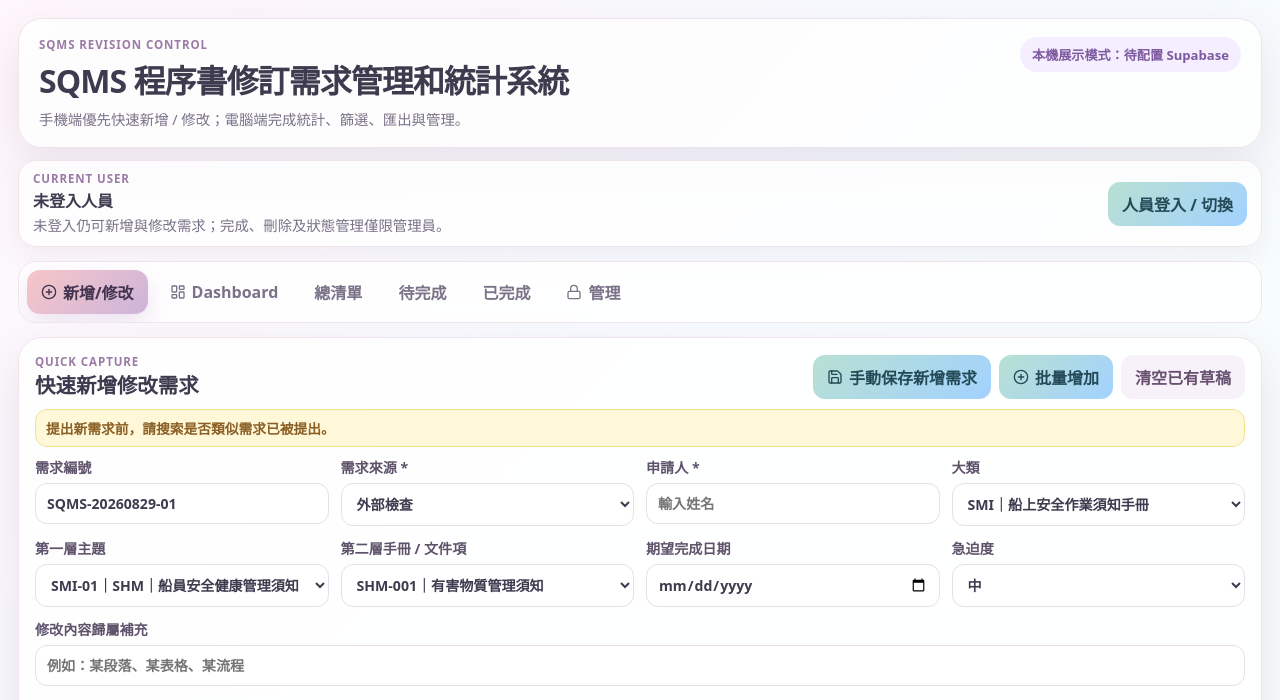
request manual save flow › uses the signed-in person as an editable applicant default
expect the field labelled "申請人 *" is empty: met, box [646,483,940,524]
Click the button "人員登入 / 切換": (1178, 204) [1108,182,1247,226]
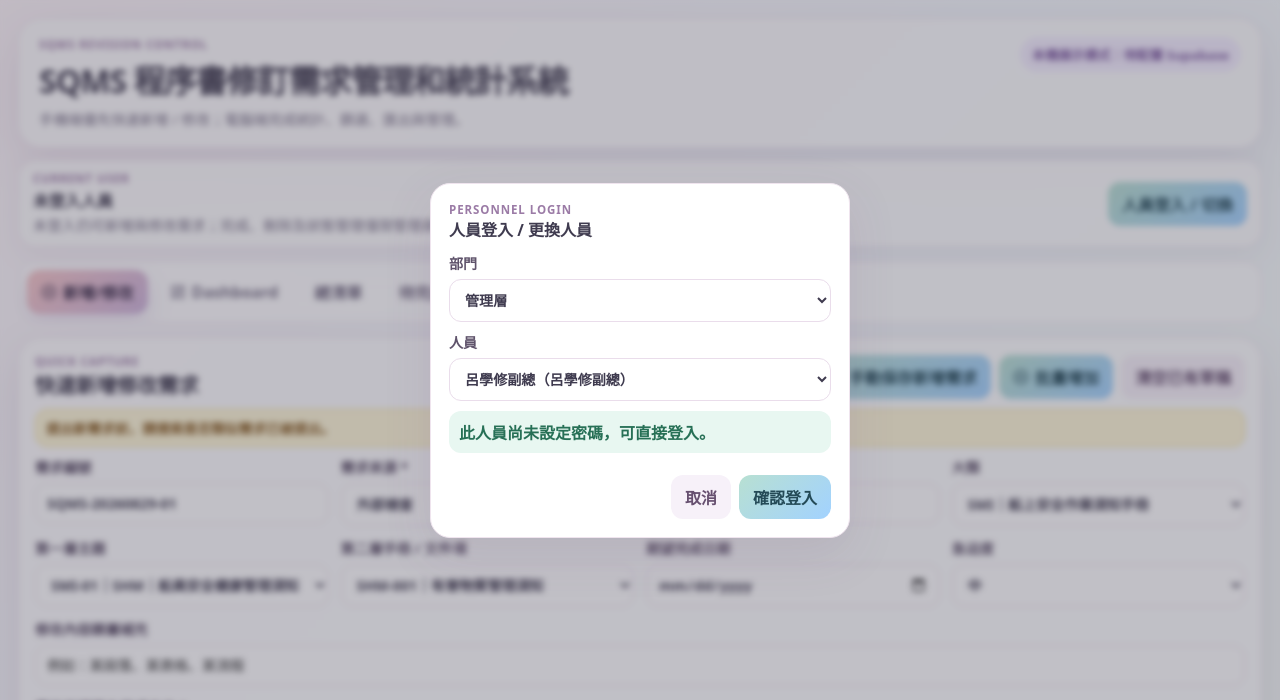
Click the button "確認登入": (785, 496) [739,474,831,518]
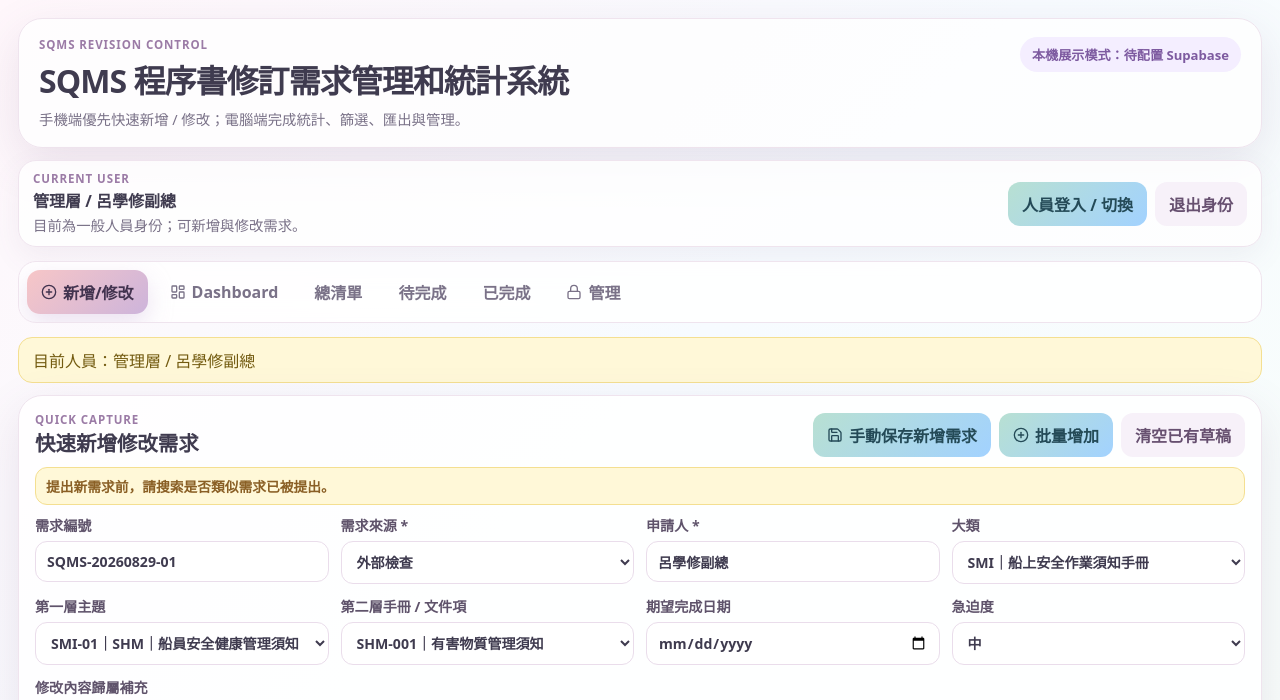
expect the field labelled "申請人 *" holds "呂學修副總": met
Replace the text in the field labelled "申請人 *" with "手動修改姓名": (793, 562) [646,541,940,582]
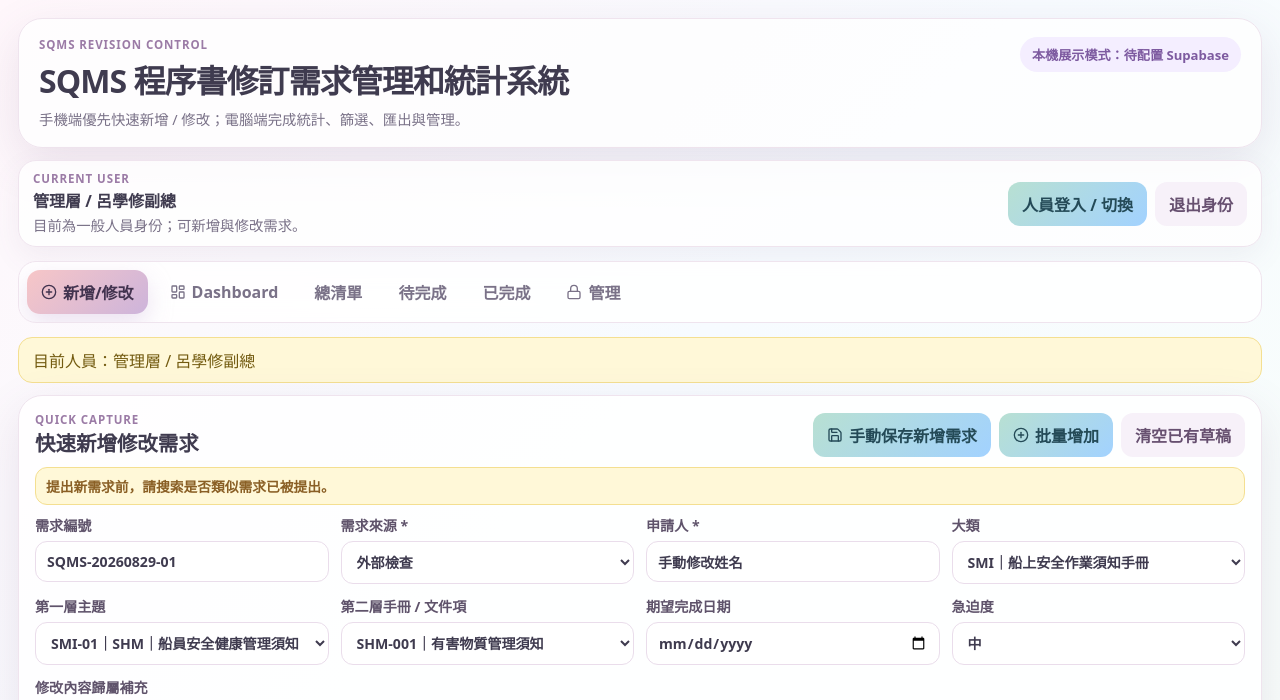
Click the button "批量增加": (1056, 434) [999,412,1113,456]
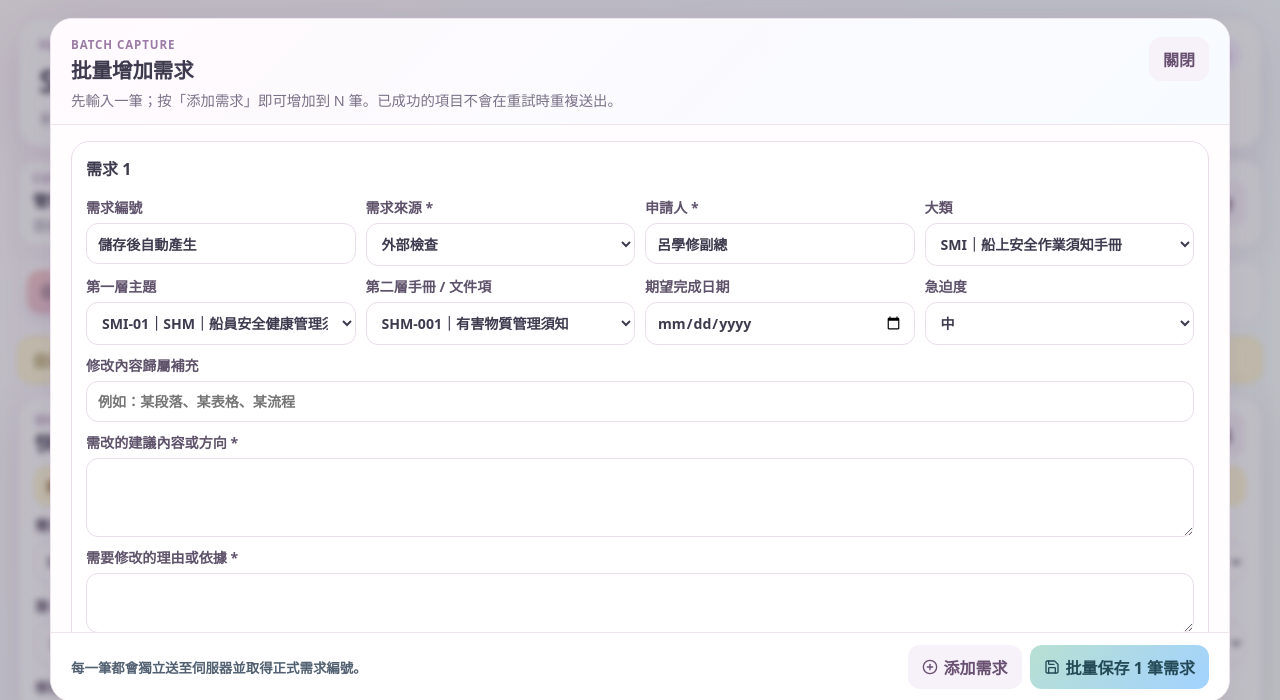
expect the field labelled "申請人 *" holds "呂學修副總": met, box [645,223,914,264]
